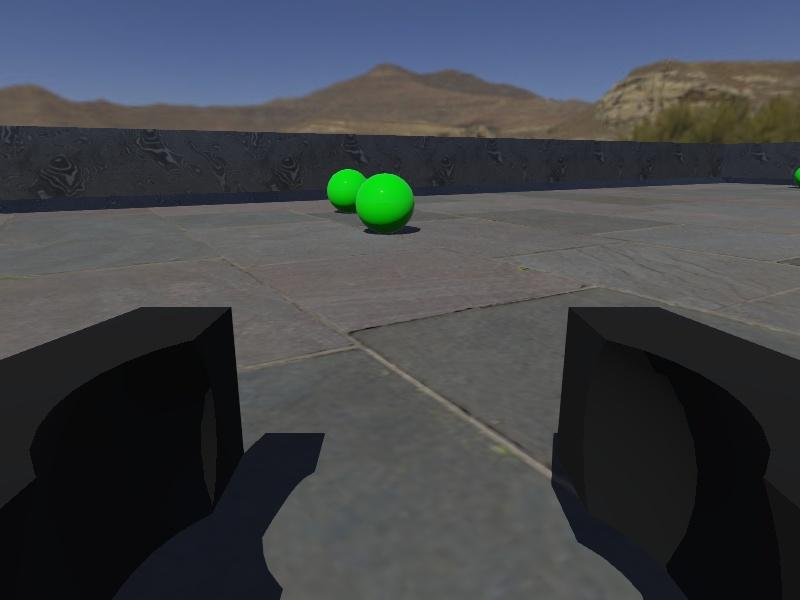green ball: (355, 172, 415, 235)
